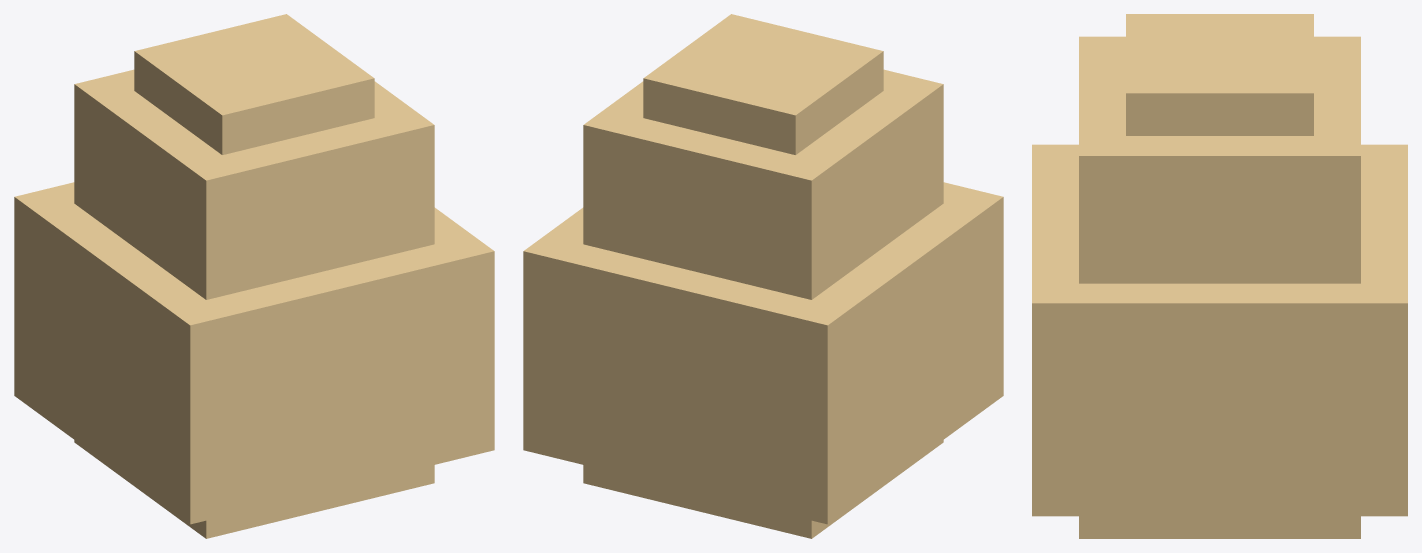
Rendered from OuFiert.fbx.
The picture shows the model from 3 angles, left to right: view 1: azimuth 30°, elevation 25°; view 2: azimuth 150°, elevation 25°; view 3: azimuth 270°, elevation 25°; orthographic projection. The views are drawn at different scales.
Parts seen in each view (by area): view 1: cube_1, cube_2, cube_3, cube; view 2: cube_1, cube_2, cube_3, cube; view 3: cube_1, cube_2, cube_3, cube.
Boxes of the visible parts, box(x1,y1,x2,y2) form: cube_1: box(14, 182, 494, 524); cube_2: box(74, 69, 434, 299); cube_3: box(134, 14, 374, 154); cube: box(74, 440, 434, 538); cube_1: box(523, 182, 1003, 524); cube_2: box(583, 69, 943, 299); cube_3: box(643, 14, 883, 154); cube: box(583, 440, 943, 538); cube_1: box(1032, 144, 1407, 516); cube_2: box(1079, 36, 1360, 283); cube_3: box(1126, 14, 1313, 135); cube: box(1079, 516, 1360, 538).
Size of the model in its own units: 50 by 62.5 by 50.
Materials: 1 (1 with a texture image).
